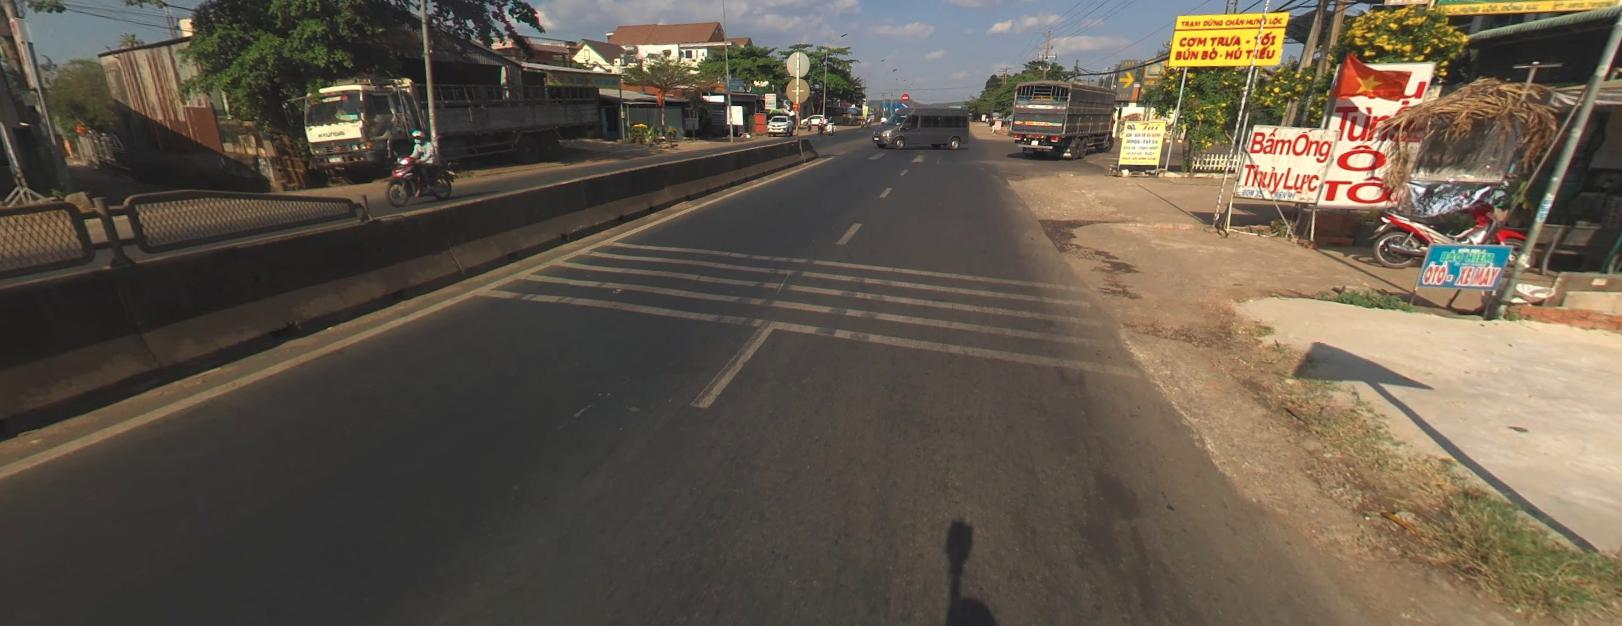Cam nguoc chieu: (900, 92, 908, 100)
Hieu lenh: (900, 101, 909, 108)
